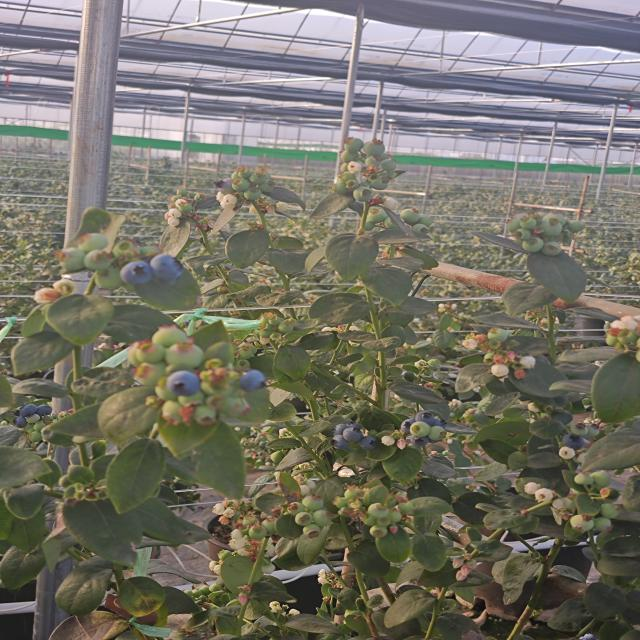ripe: (326, 419, 378, 453), (150, 252, 188, 288), (161, 369, 203, 399), (117, 256, 153, 288), (9, 401, 50, 429), (397, 416, 428, 448), (236, 366, 268, 395), (415, 408, 448, 428), (560, 432, 586, 451)
